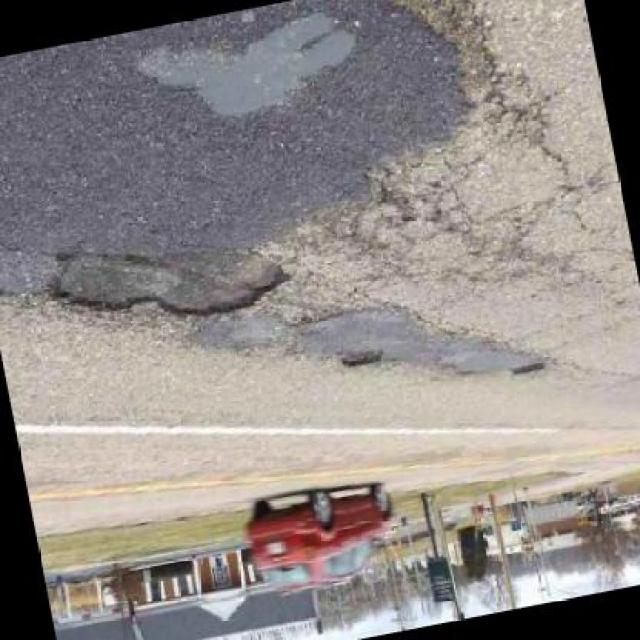pothole1: (37, 206, 297, 348), (340, 342, 388, 375), (509, 358, 551, 382)
